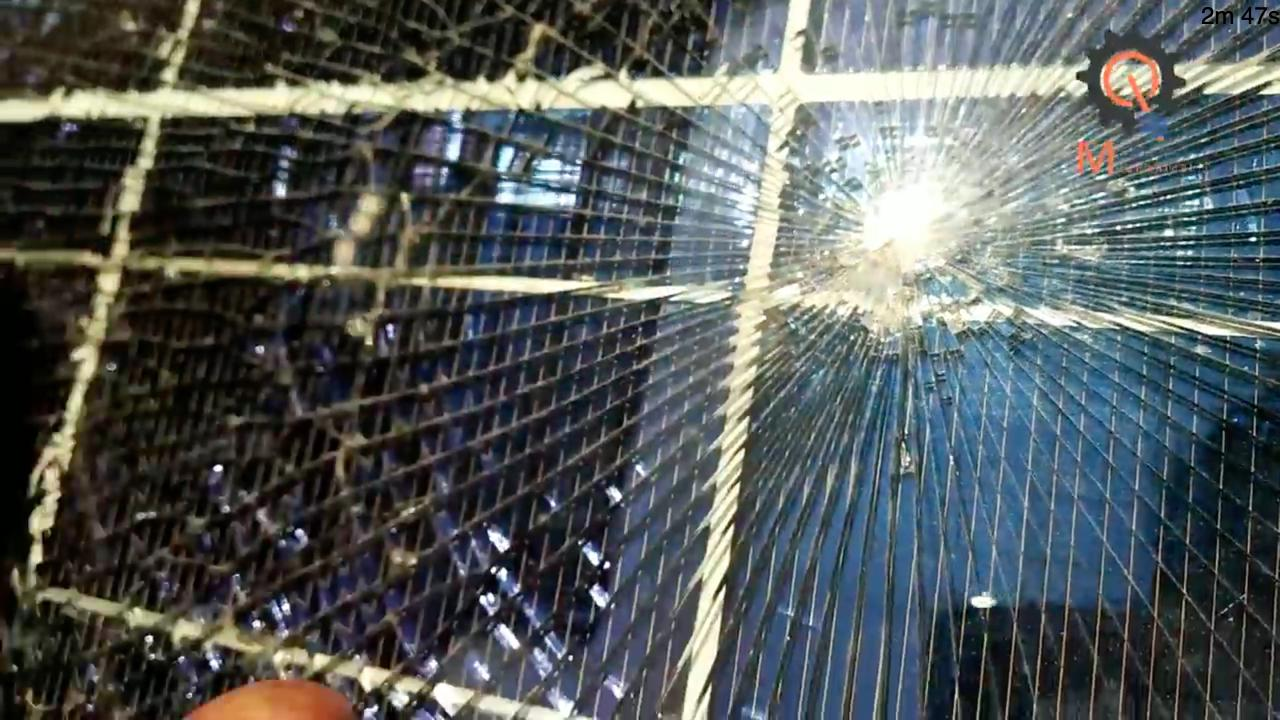Crack: (19, 15, 1063, 661)
